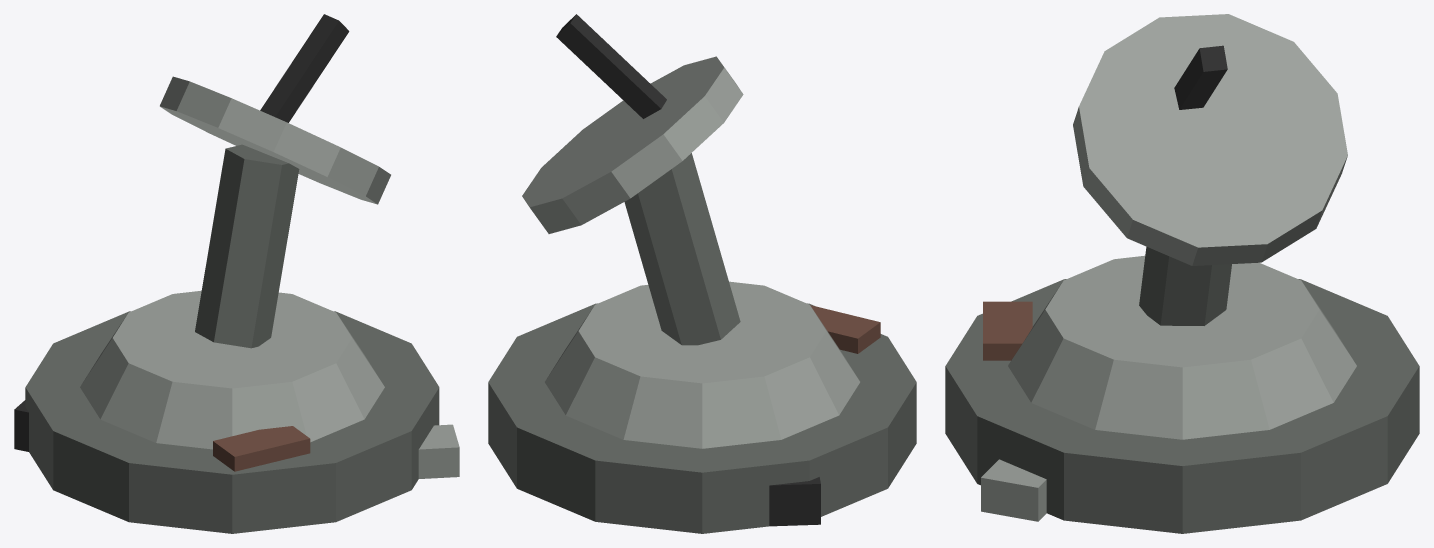
File: ancient_ship_beacon.obj
3 renders of one model, left to right at view 1: azimuth 30°, elevation 25°; view 2: azimuth 150°, elevation 25°; view 3: azimuth 270°, elevation 25°, orthographic. The views are drawn at different scales.
Parts seen in each view (by area): view 1: ancient_ship_beacon; view 2: ancient_ship_beacon; view 3: ancient_ship_beacon.
Boxes of the visible parts, <box> form: ancient_ship_beacon: <box>14,14,459,533</box>; ancient_ship_beacon: <box>488,14,916,533</box>; ancient_ship_beacon: <box>945,14,1419,533</box>.
Size of the model in its own units: 0.76 by 0.7951 by 0.76.
